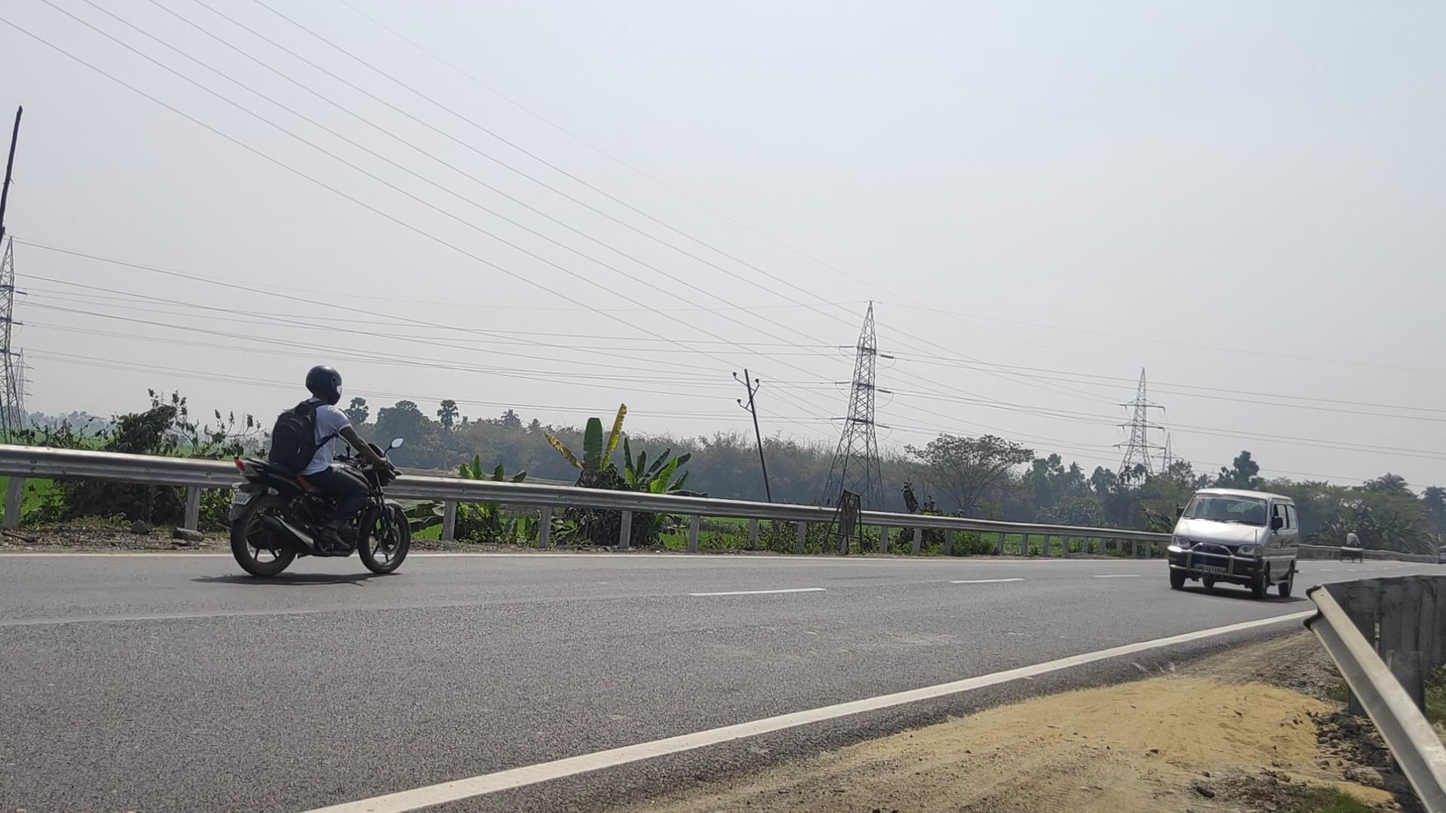bike: (227, 365, 411, 577)
van: (1168, 487, 1299, 601)
